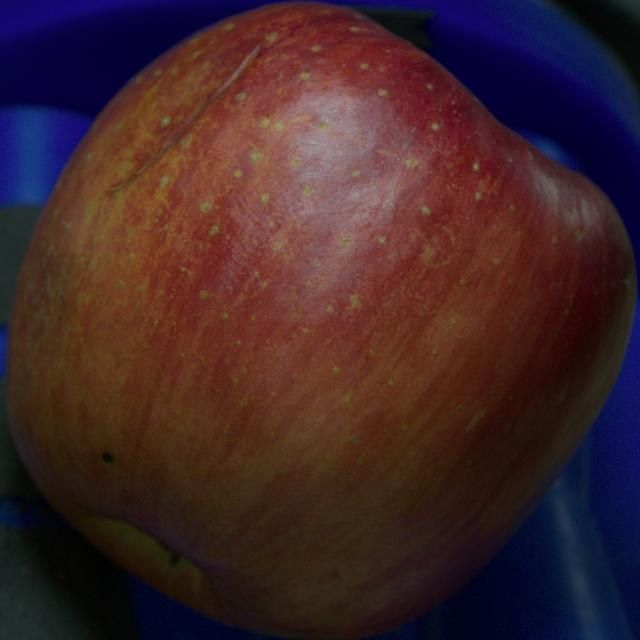apple: (5, 4, 636, 639)
pest: (101, 452, 112, 462)
scratch: (106, 45, 260, 191)
